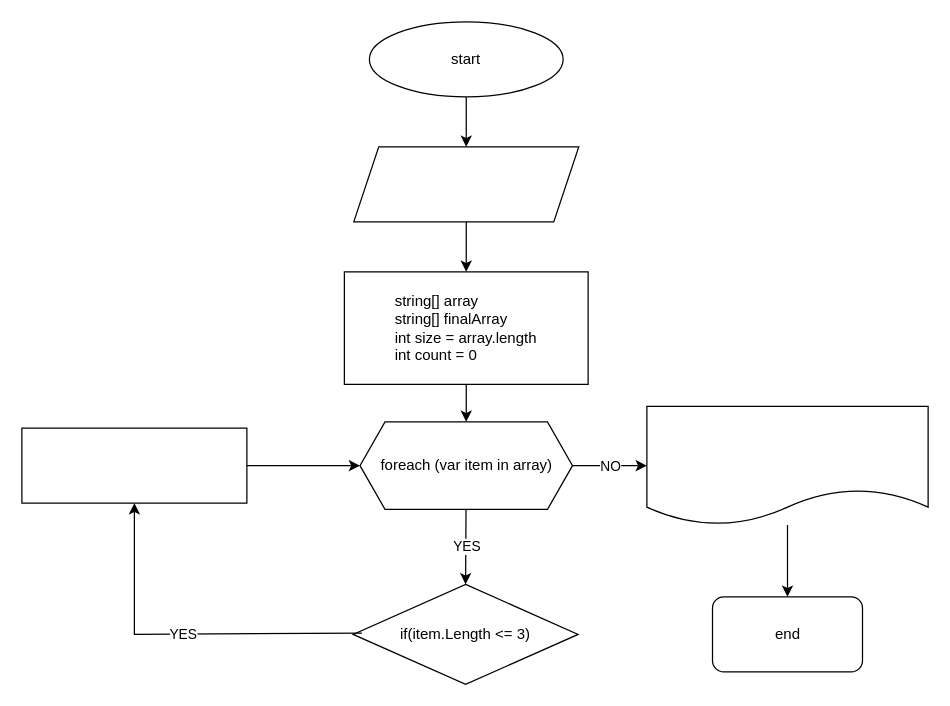
This 950x706 diagram has some shape labels left out. The centre of each missing label's shape, as x and y in pixels:
Array.Resize(ref finalArray, count);: (787,465)
Enter a size of array: (465,184)
finalArray [count] = item; count++;: (134,465)
